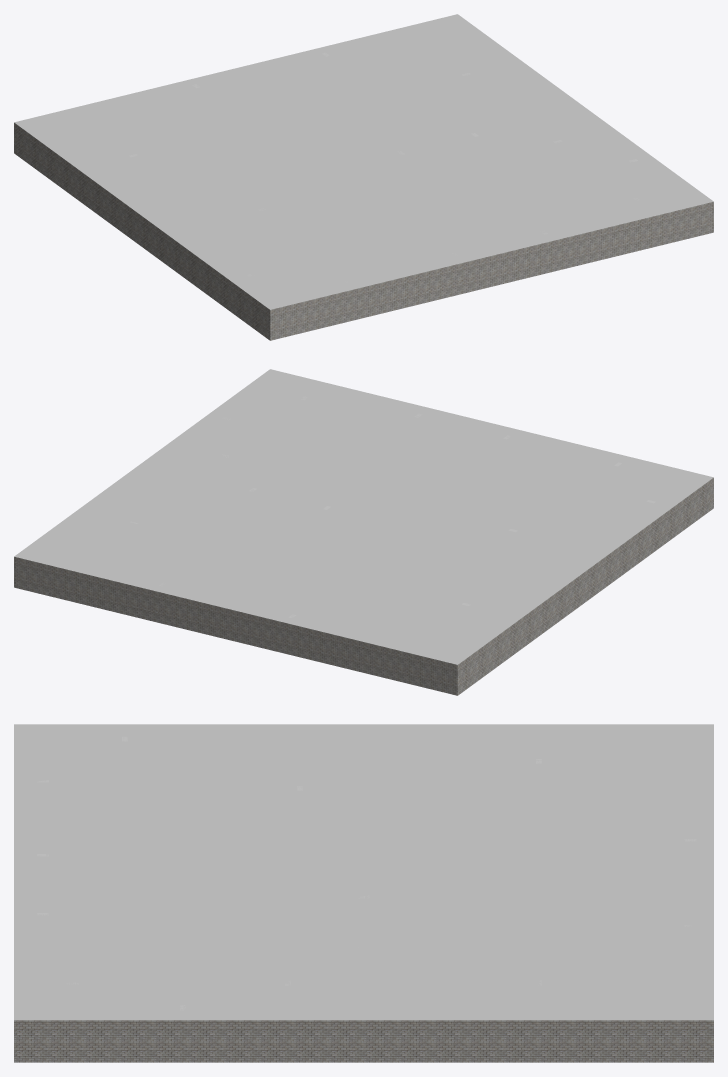
The model's file is Map_4.fbx.
3 views of the same model, one above another, from view 1: azimuth 30°, elevation 25°; view 2: azimuth 150°, elevation 25°; view 3: azimuth 270°, elevation 25° (orthographic). The views are drawn at different scales.
Visible parts, largest first — view 1: Cube; view 2: Cube; view 3: Cube.
Boxes of the visible parts, x1,y1,x2,y2 form: Cube: (14, 14, 713, 340); Cube: (14, 369, 713, 695); Cube: (14, 724, 713, 1062).
Bounding box in the file's own units: 1200 × 80 × 1200.
